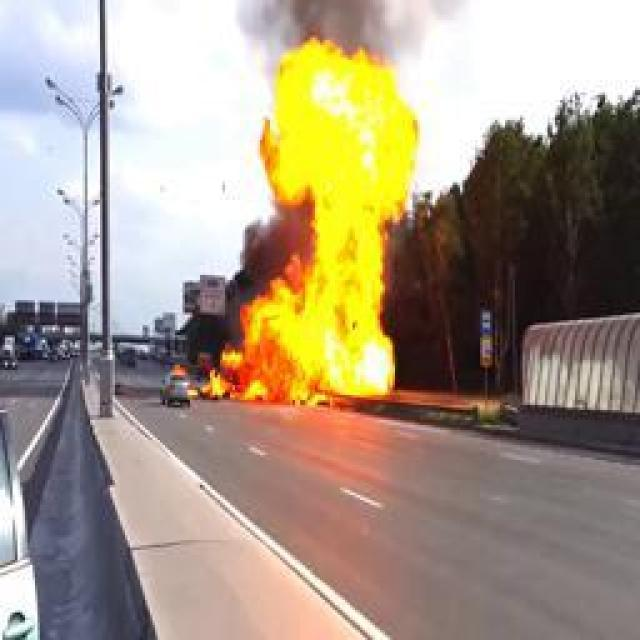Fire: (200, 39, 420, 406)
